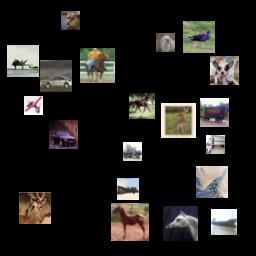airplane: (7, 45, 39, 77), (196, 166, 228, 198), (117, 178, 139, 200), (24, 96, 43, 115)
automobile: (40, 60, 72, 92), (49, 120, 78, 149)
bird: (183, 21, 215, 53)
deer: (161, 103, 196, 138), (19, 192, 51, 224)
dog: (210, 56, 239, 85), (61, 11, 80, 30), (156, 33, 175, 52)
ship: (211, 209, 237, 235)
truck: (200, 98, 229, 127), (206, 135, 225, 154), (123, 142, 142, 161)
